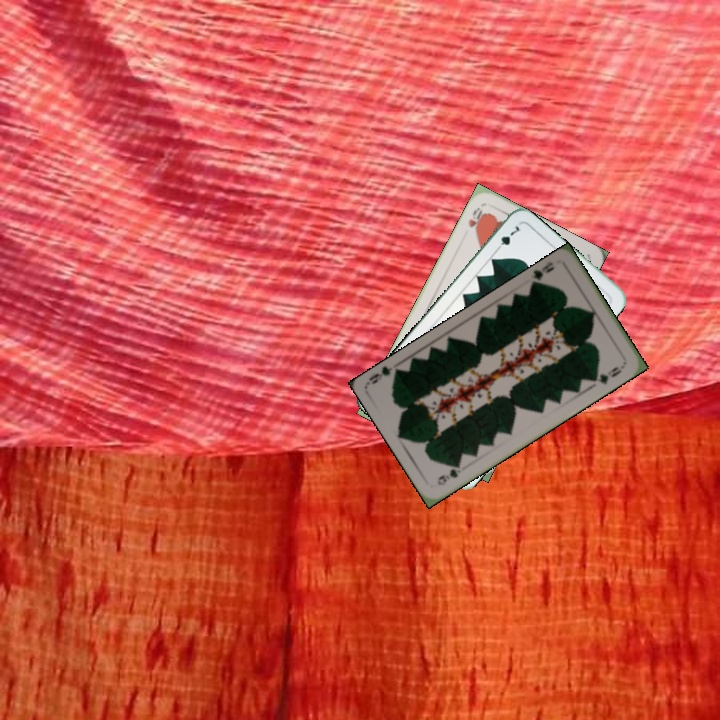G7: (491, 221, 525, 255)
G9: (527, 258, 557, 288), (433, 460, 463, 489)
HO: (464, 203, 488, 236)
